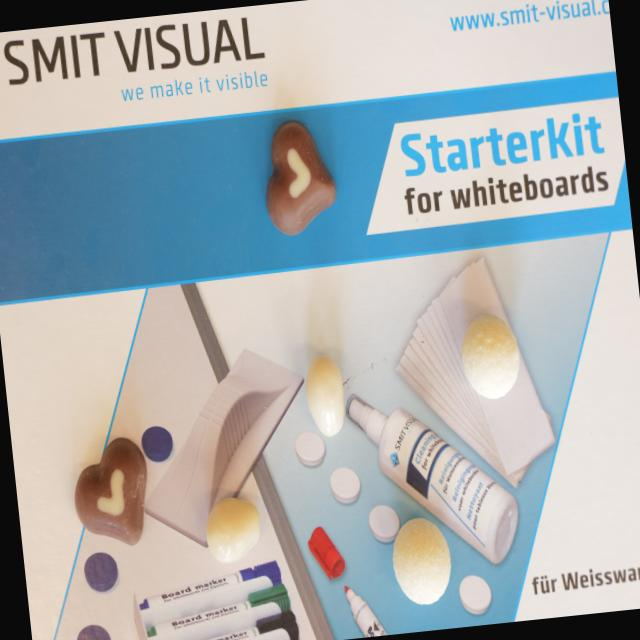Comtesse: (389, 515, 455, 609), (458, 313, 524, 402)
Jelly_White: (202, 492, 264, 566), (302, 352, 348, 441)
Passion_au_lait: (258, 115, 342, 238), (67, 436, 154, 552)
